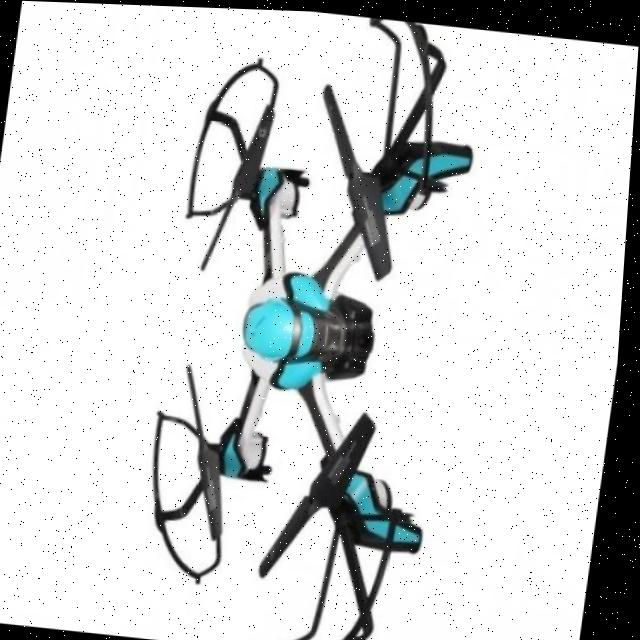drones: (72, 3, 510, 640)
